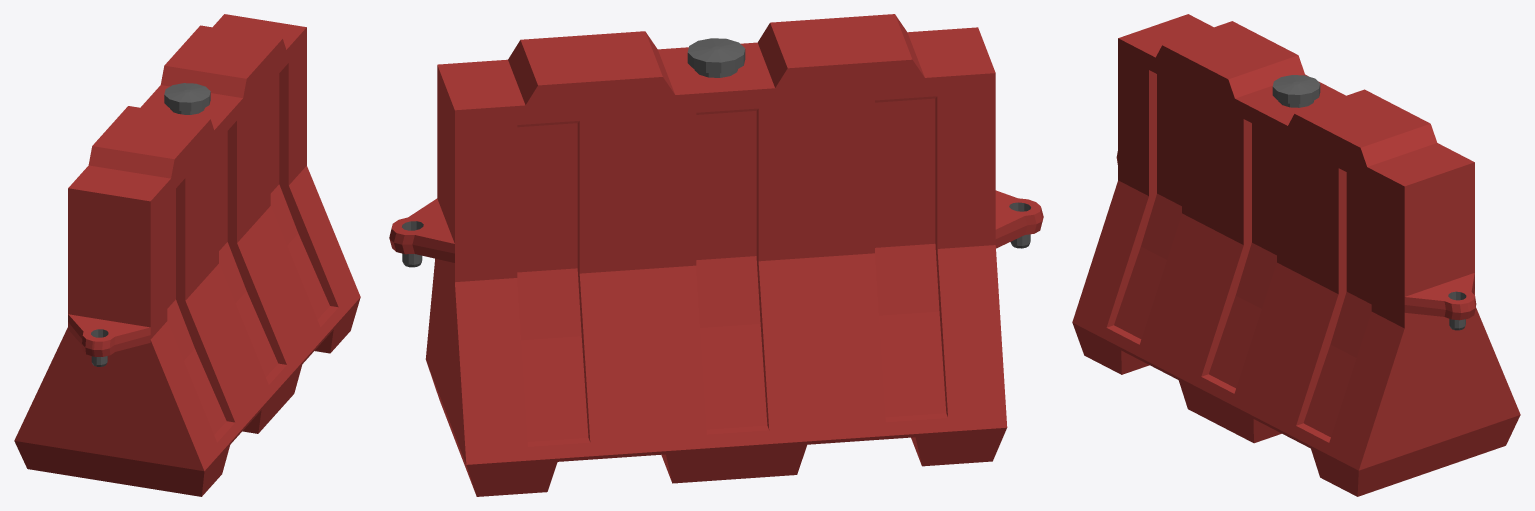
Rendered from Plastic Barrier.fbx.
3 renders of one model, left to right at view 1: azimuth 30°, elevation 25°; view 2: azimuth 150°, elevation 25°; view 3: azimuth 270°, elevation 25°, orthographic. The views are drawn at different scales.
Parts seen in each view (by area): view 1: Barrier; view 2: Barrier; view 3: Barrier.
Boxes of the visible parts, box(x1,y1,x2,y2) form: Barrier: box(14, 14, 360, 496); Barrier: box(389, 14, 1043, 496); Barrier: box(1072, 14, 1520, 496).
Bounding box in the file's own units: 139 × 100 × 129.
